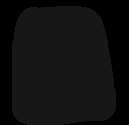fp: (10, 2, 121, 121)
